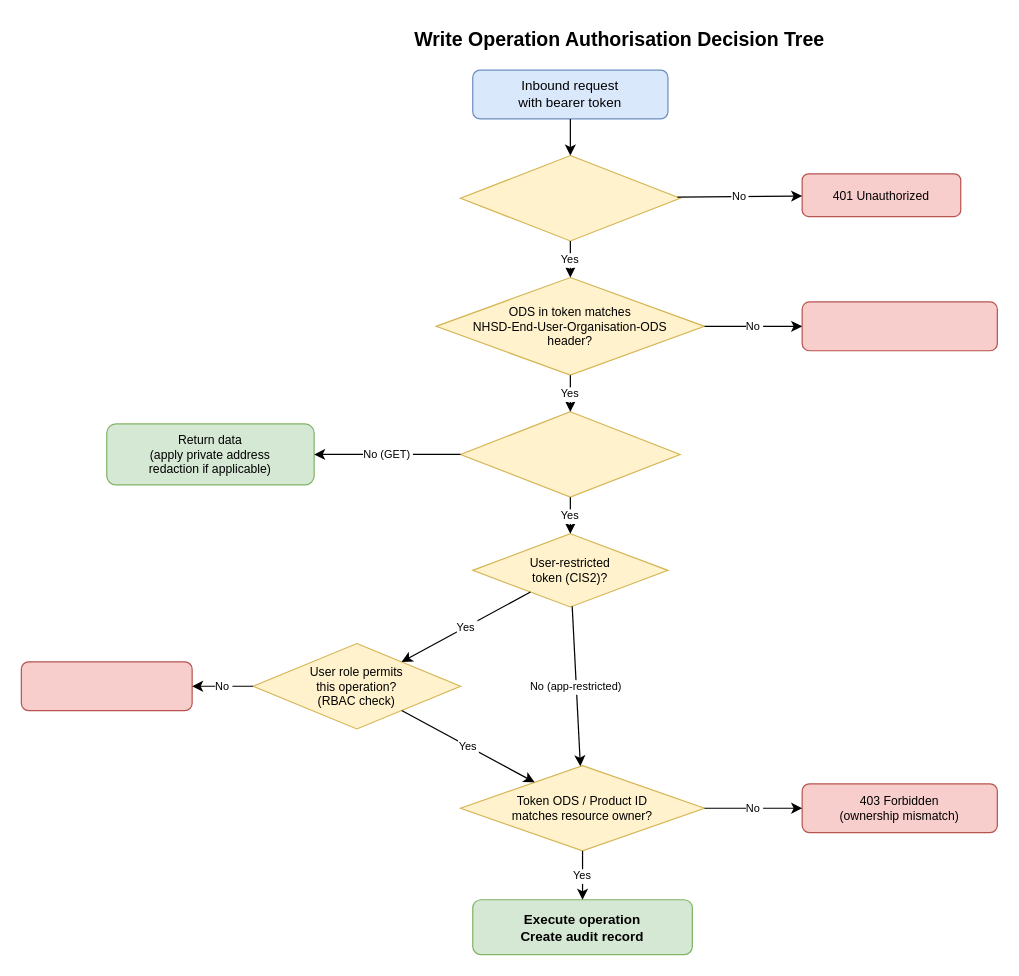
Image size: 1019x976. Some labels were removed from this diagram. Here are the shapes that lost their labels. From the top down, the box of each, then its label:
(459, 154, 680, 241): Token valid? (signature, expiry, audience)
(801, 301, 997, 351): 403 Forbidden (ODS spoofing rejected)
(459, 411, 680, 497): Write operation? (POST/PUT/PATCH/DELETE)
(20, 661, 192, 711): 403 Forbidden (role not authorised)
